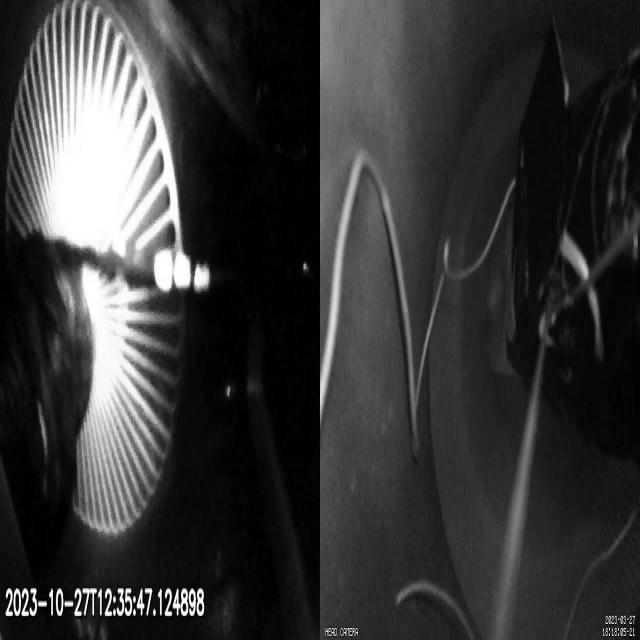white-dots: (152, 247, 210, 297)
